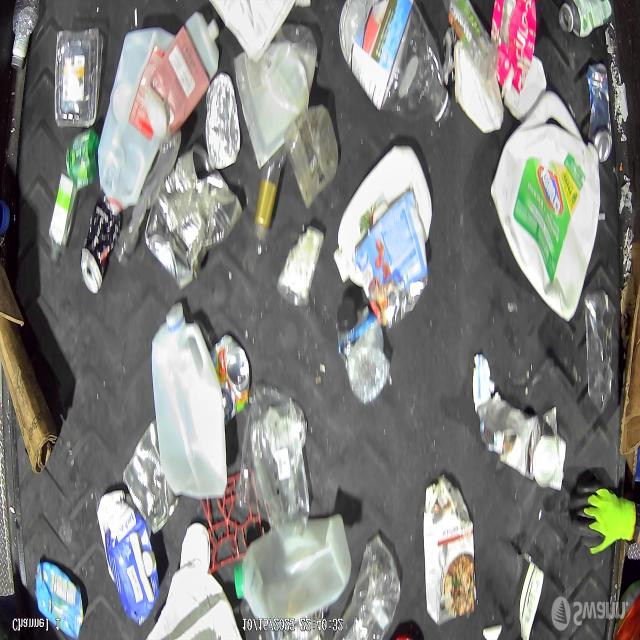can: (145, 145, 243, 291), (125, 422, 176, 531), (82, 194, 122, 292), (209, 334, 251, 427), (531, 404, 566, 490), (586, 63, 613, 164), (560, 0, 611, 38)
milk_jug: (492, 93, 600, 320), (152, 307, 229, 502), (98, 27, 176, 215), (236, 513, 355, 623)
non_white_jug: (333, 146, 432, 288), (146, 12, 219, 144), (97, 488, 159, 626), (423, 475, 477, 626), (36, 561, 84, 640)
plastic_bottle: (341, 0, 453, 128), (335, 296, 390, 406), (12, 0, 40, 39)
